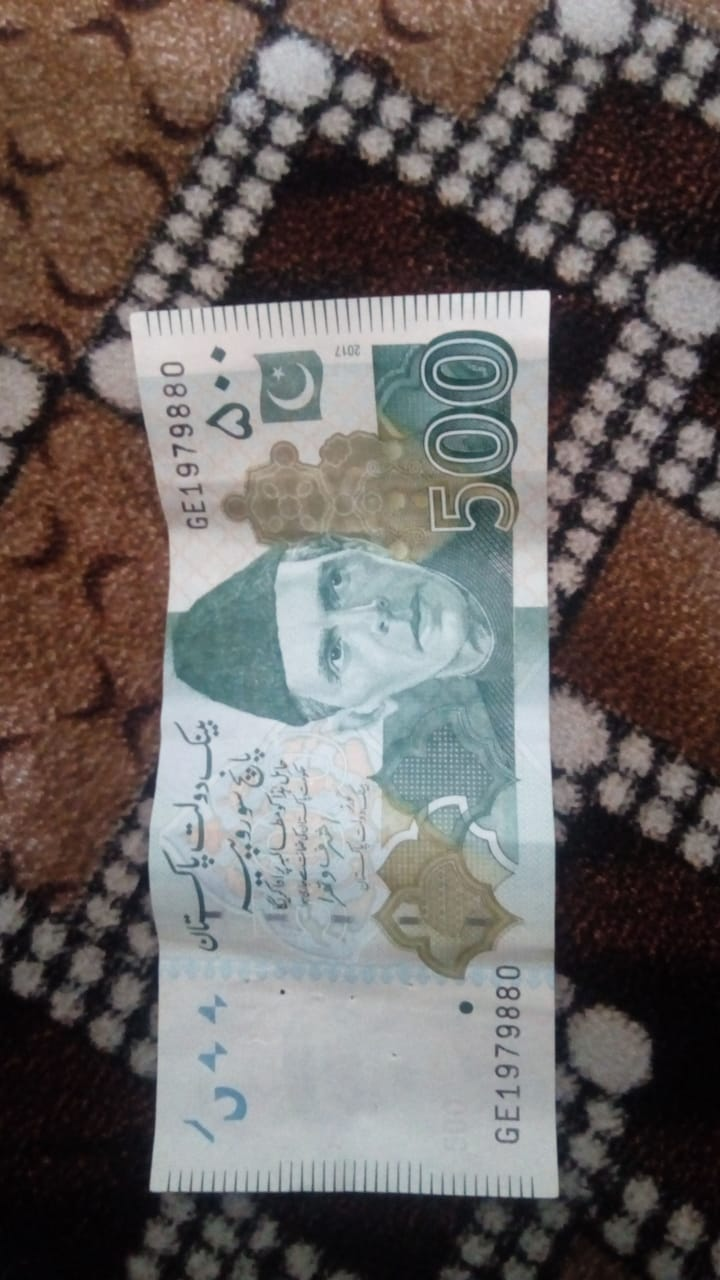500 rupee: (118, 289, 586, 1223)
